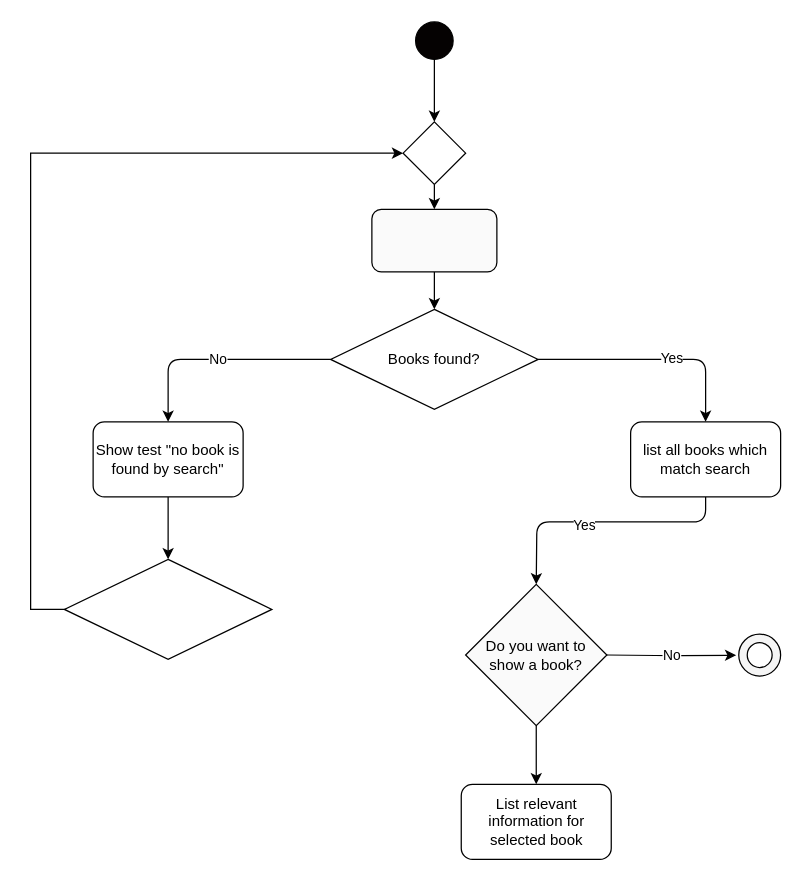
Image size: 803x881. Some labels were removed from this diagram. Here are the shapes that lost their labels. From the top down, the centre of each, then its label:
At [434,240]: "Search book by title or isbn".
At [167,608]: "Do you want to search another book?".
